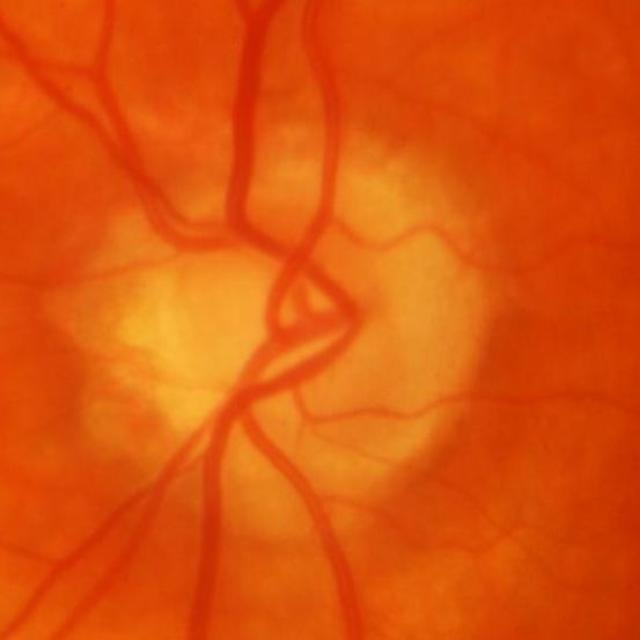OC: (210, 265, 358, 399)
OD: (140, 158, 485, 511)
